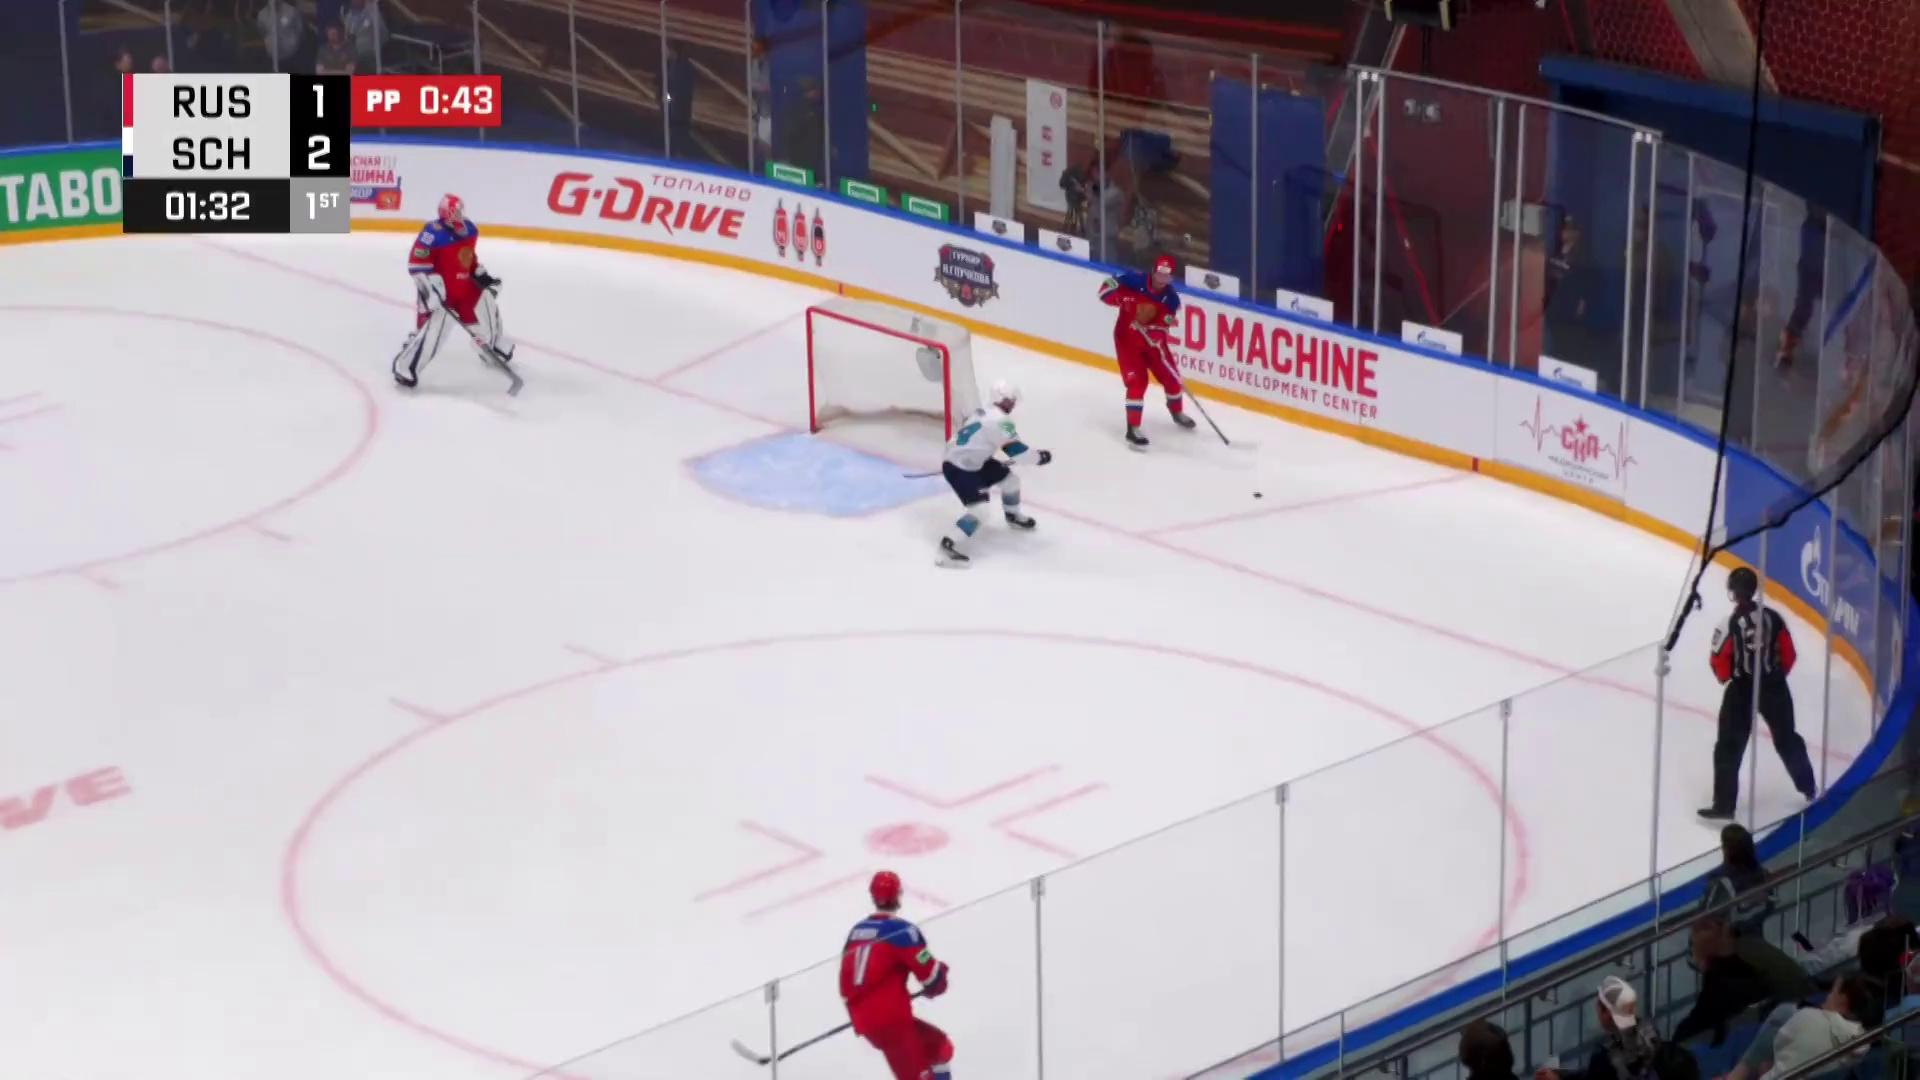ball: (1253, 492, 1263, 500)
